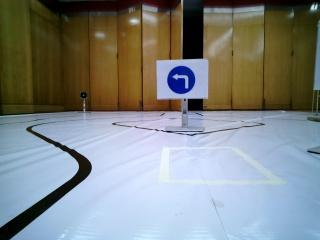left: (157, 61, 207, 95)
